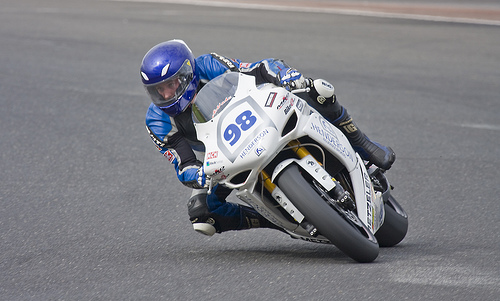helmet: (135, 40, 199, 101)
